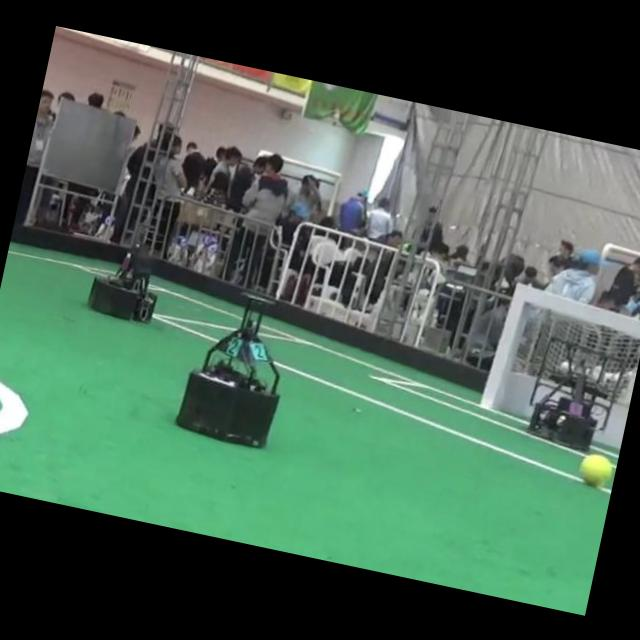ball: (579, 453, 612, 485)
goal: (481, 284, 526, 407)
robot: (176, 295, 279, 445), (528, 336, 627, 450), (88, 237, 156, 321)
